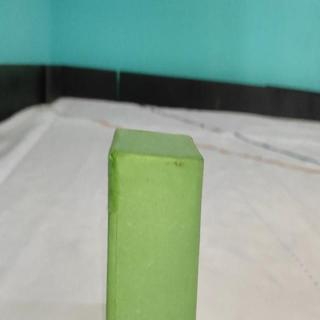greenbox: (107, 127, 205, 320)
